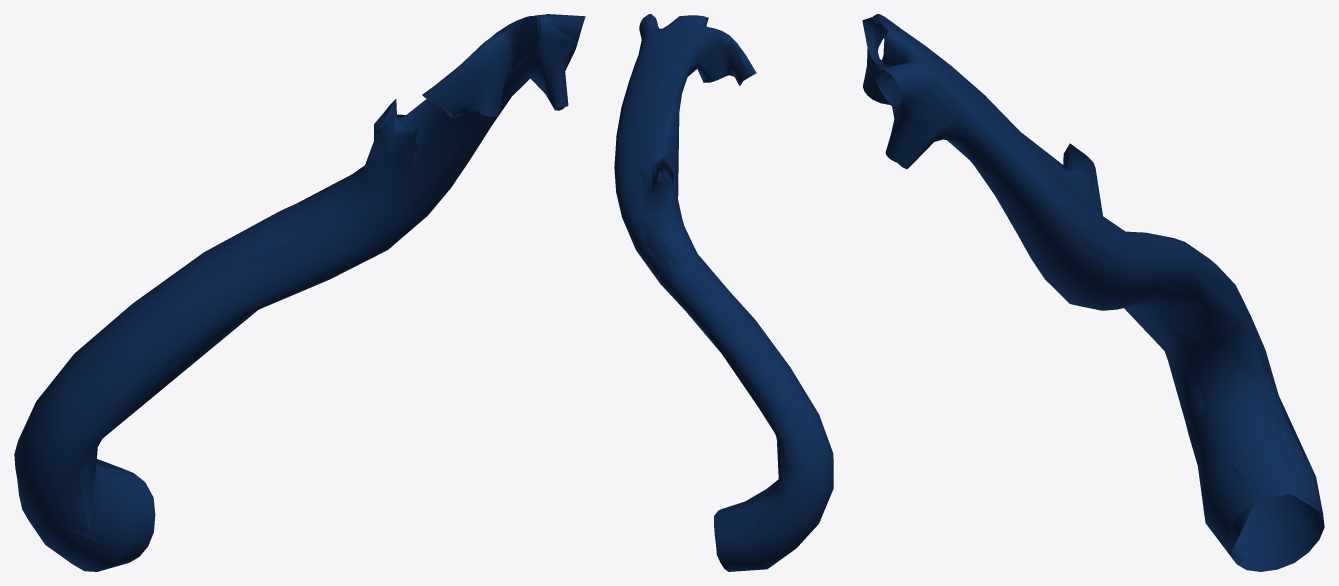
The model's file is Vena cava cranialis.fbx.
3 views of the same model, side by side, from view 1: azimuth 30°, elevation 25°; view 2: azimuth 150°, elevation 25°; view 3: azimuth 270°, elevation 25° (orthographic). The views are drawn at different scales.
Visible parts, largest first — view 1: Vena cava cranialis, Vena cava cranialis low; view 2: Vena cava cranialis, Vena cava cranialis low; view 3: Vena cava cranialis, Vena cava cranialis low.
Part boxes in pixels (x1=…): Vena cava cranialis: x1=14, y1=14, x2=585, y2=571; Vena cava cranialis low: x1=63, y1=14, x2=584, y2=553; Vena cava cranialis: x1=614, y1=14, x2=833, y2=571; Vena cava cranialis low: x1=616, y1=14, x2=797, y2=537; Vena cava cranialis: x1=862, y1=14, x2=1324, y2=571; Vena cava cranialis low: x1=862, y1=16, x2=1322, y2=571.
Size of the model in its own units: 7.73 by 10.78 by 6.67.
